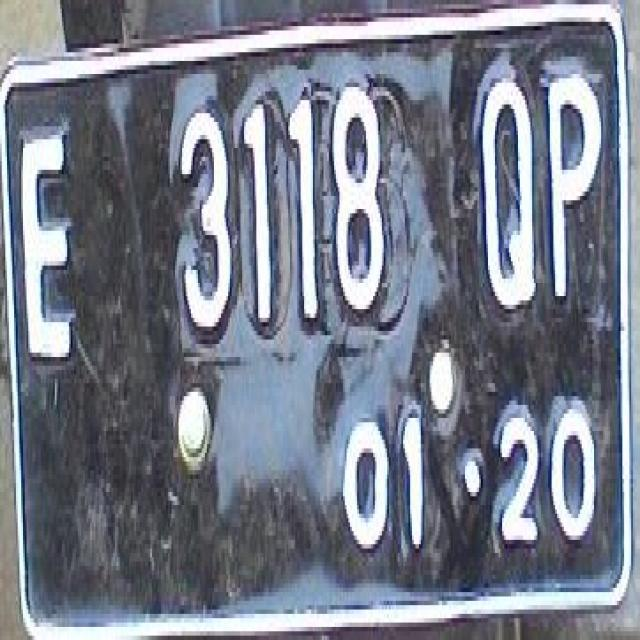plate: (0, 52, 638, 605)
